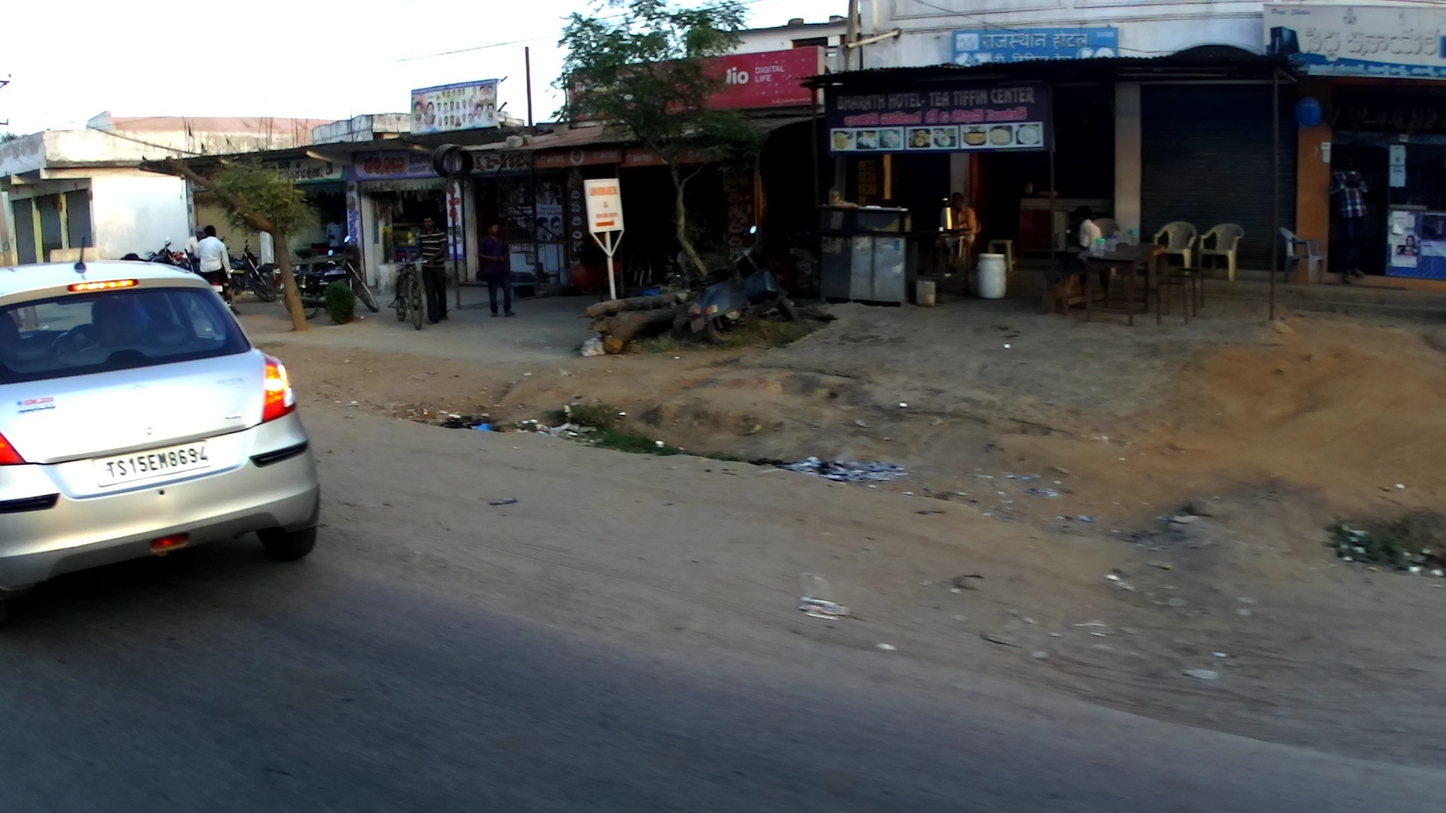bicycle: (387, 255, 428, 331)
car: (2, 234, 321, 594)
motorcycle: (692, 222, 798, 345), (279, 233, 383, 319), (173, 237, 281, 308), (125, 237, 192, 276)
person: (1059, 205, 1106, 308), (940, 191, 978, 288), (476, 222, 514, 315), (198, 224, 233, 311), (325, 216, 349, 247)
rider: (407, 214, 456, 325), (183, 231, 207, 260)
